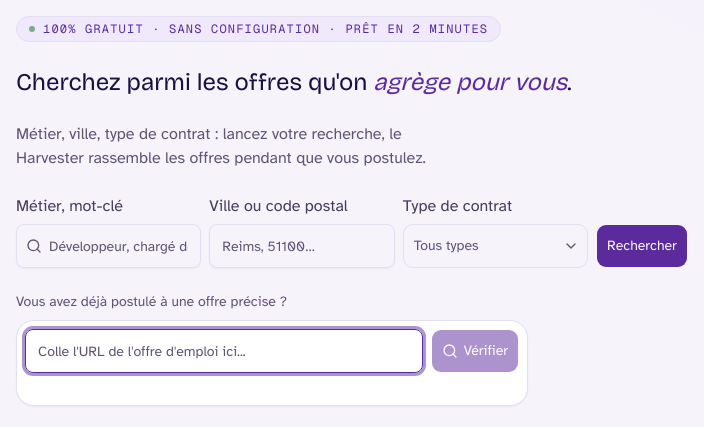
Test: Home — nouvelle candidature (vérification instantanée + enrichissement asynchrone, JOB-ASYNC-ENRICH) › shows an error when creation fails, without showing a created card
The image size is (704, 427).
Type "example.com/job" into the field with placeholder "Colle l'URL de l'offre d'emploi ici..." at coordinates (224, 351), box [25,329,423,373]
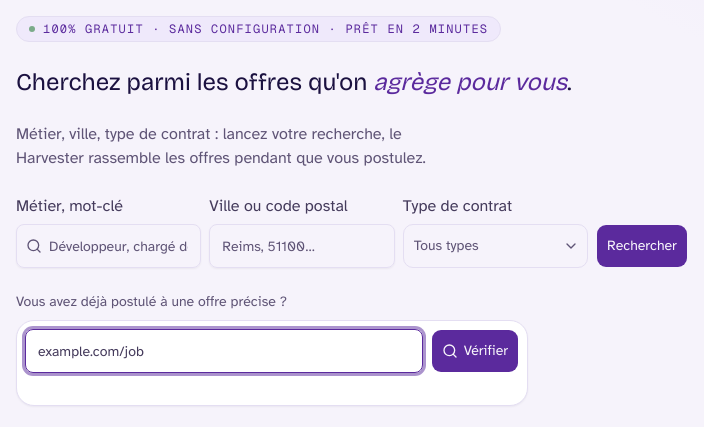
Click the button "Vérifier" at coordinates (475, 351), box [431,329,519,373]
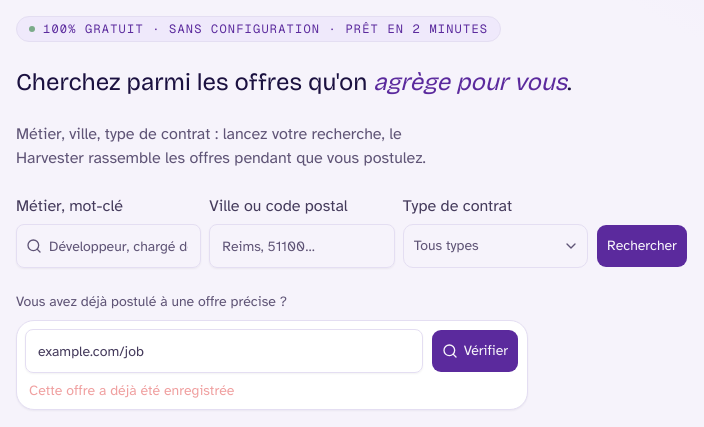
Expected: the text with test id "url-check-error" reads "Cette offre a déjà été enregistrée", [29,382,234,399]
